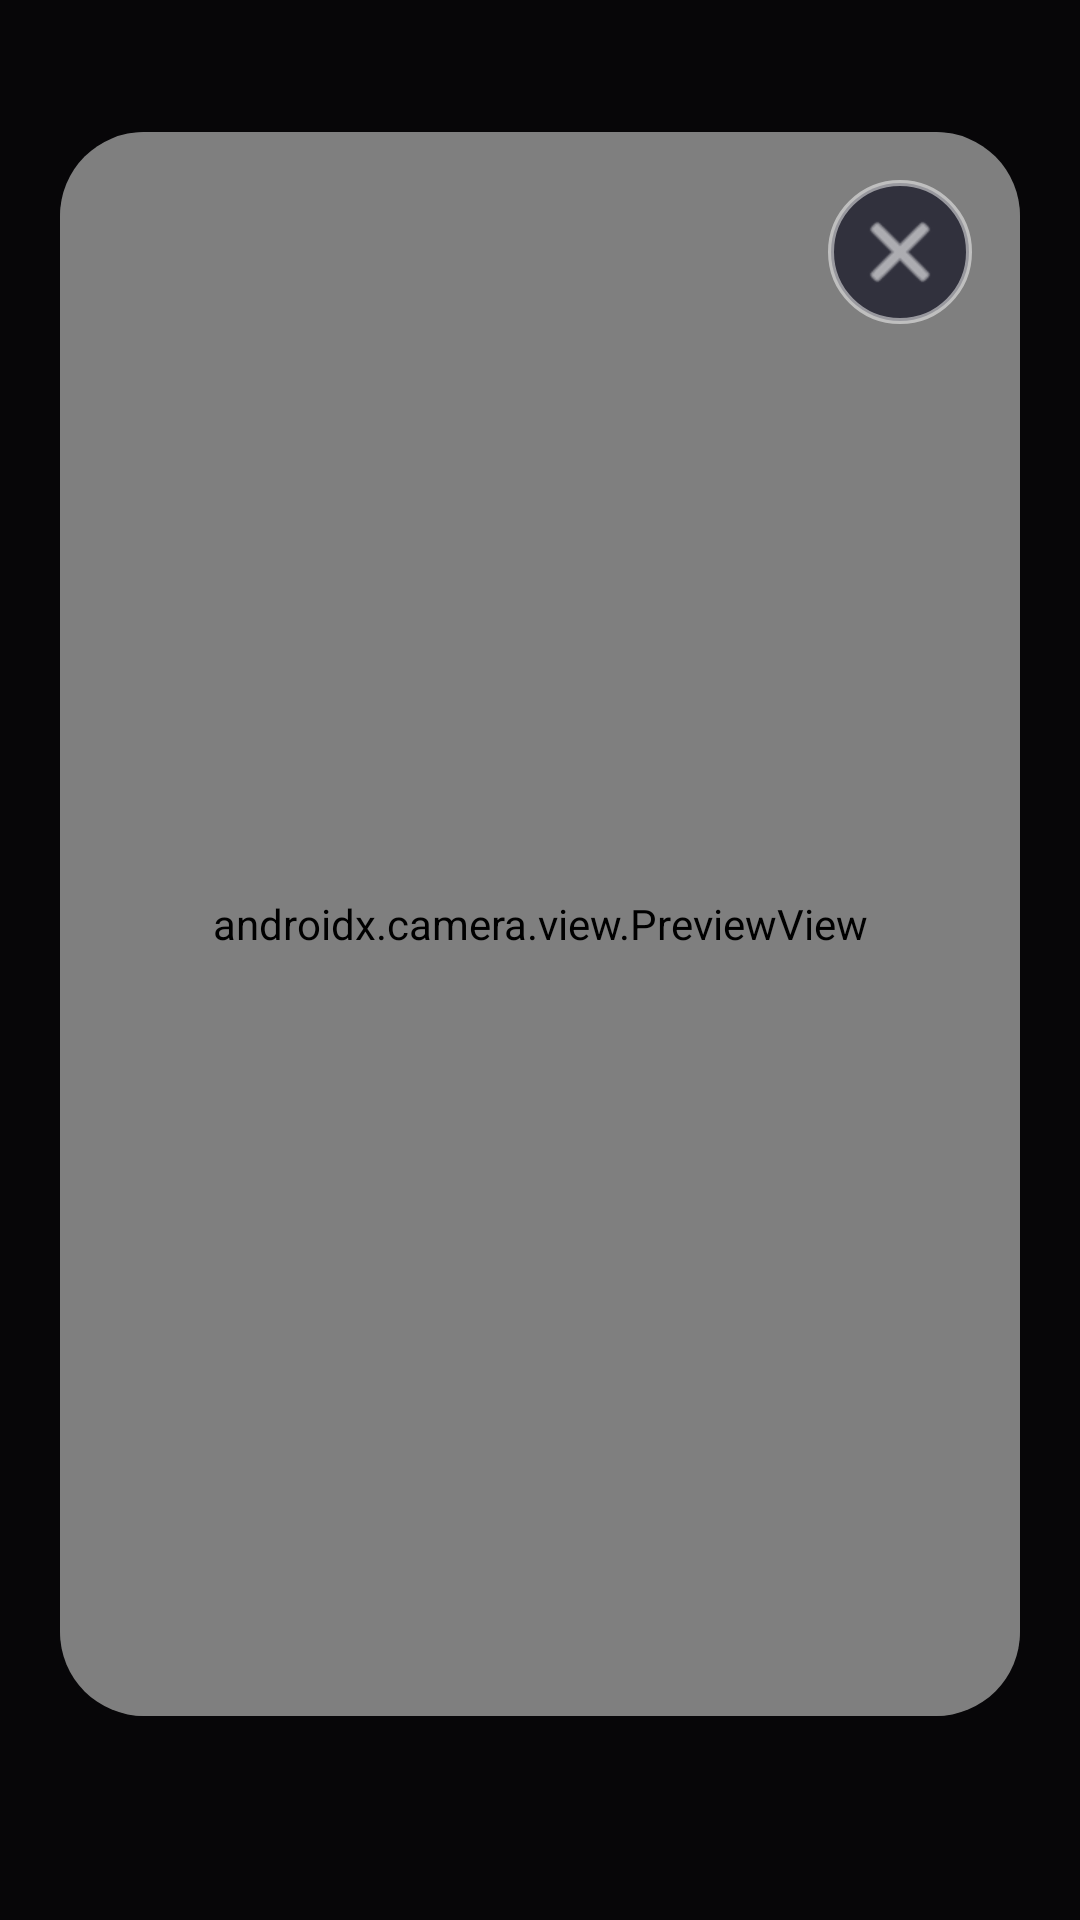

Icon bounding boxes for this 1080px x 1920px phone screenshot, format (x1, y1, x2, y2):
Fermer le miroir: (828, 180, 972, 324)
